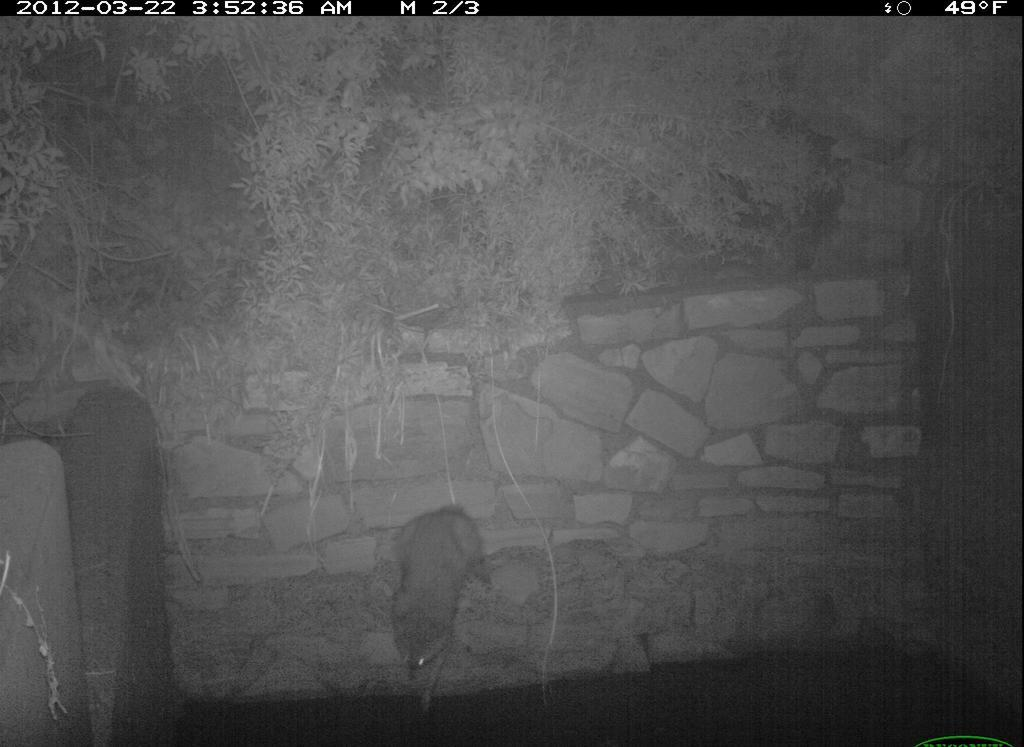raccoon: (381, 498, 500, 729)
